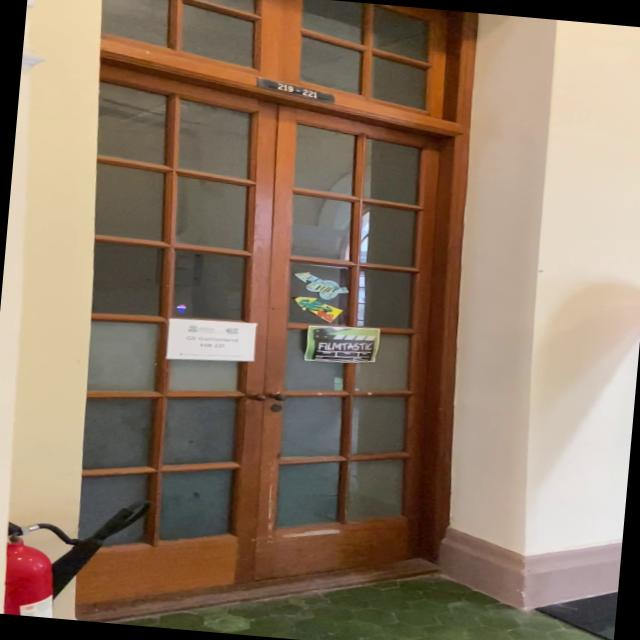room221: (255, 74, 336, 105)
